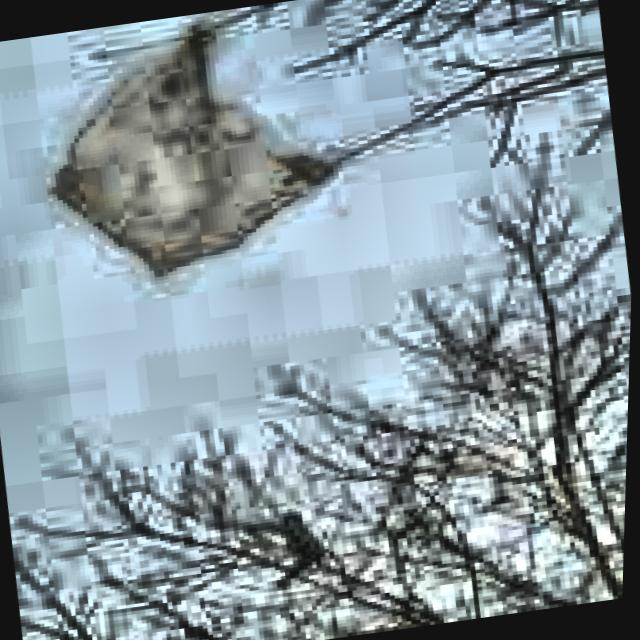Plastic: (36, 0, 419, 324)
